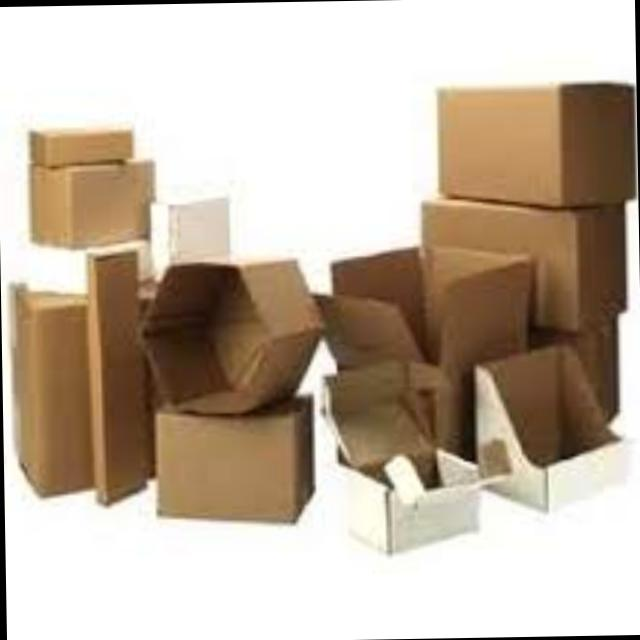cardboard paper: (423, 198, 622, 327), (435, 82, 629, 200), (154, 393, 311, 519), (11, 287, 90, 491), (86, 251, 148, 501), (26, 126, 146, 235)
